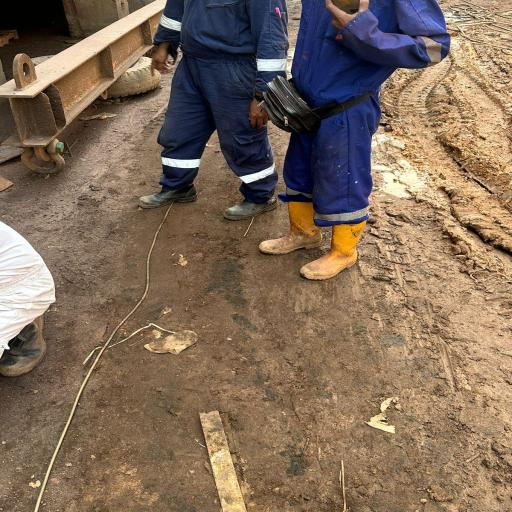safety_shoe: (254, 201, 325, 256), (298, 225, 364, 280), (136, 182, 201, 208), (220, 195, 280, 220)
